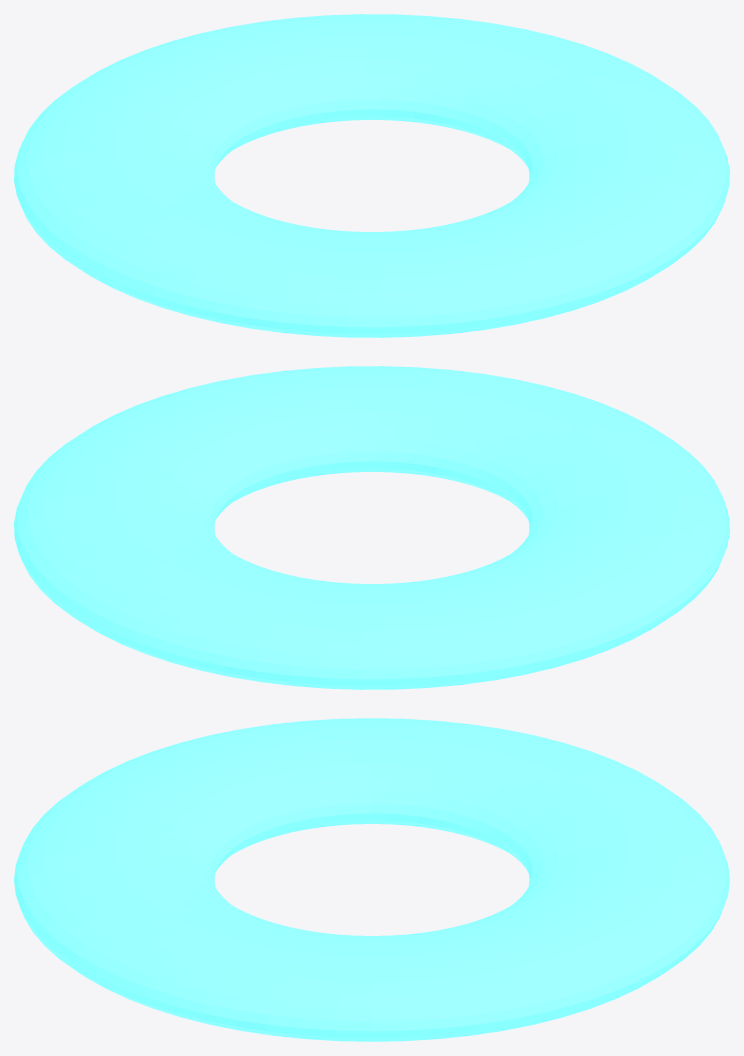
Rendered from shape_2_donut.glb.
The picture shows the model from 3 angles, top to bottom: view 1: azimuth 30°, elevation 25°; view 2: azimuth 150°, elevation 25°; view 3: azimuth 270°, elevation 25°; orthographic projection.
Visible parts, largest first — view 1: geometry_0; view 2: geometry_0; view 3: geometry_0.
Part boxes in pixels (box(x1,y1,x2,y2)): geometry_0: box(14, 14, 729, 337); geometry_0: box(14, 366, 729, 689); geometry_0: box(14, 718, 729, 1041).
Size of the model in its own units: 2 by 0.2 by 2.
